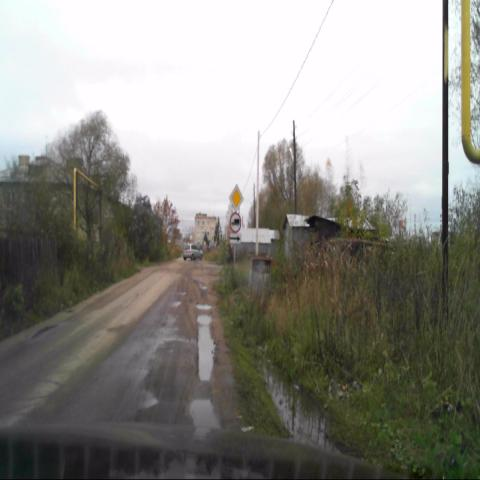3_4_1: (230, 212, 241, 233)
